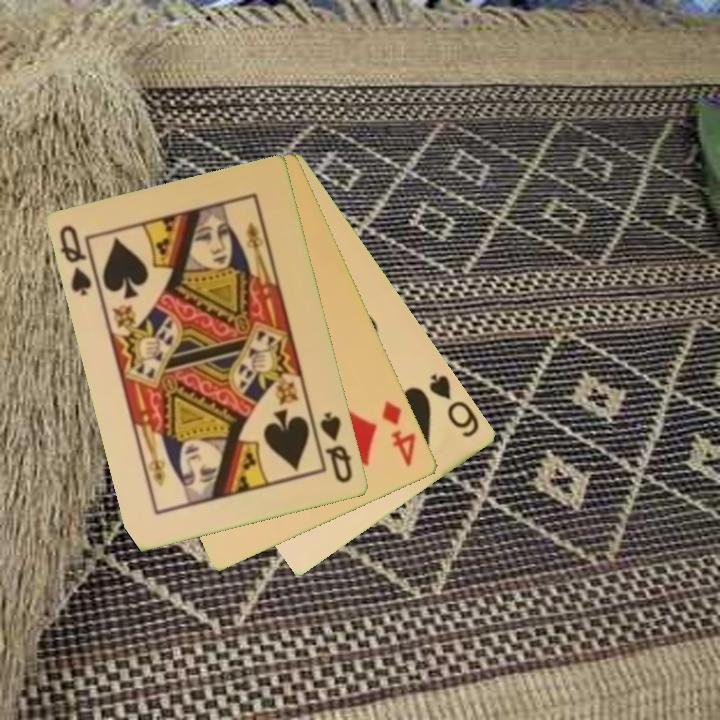4d: (378, 397, 420, 470)
6s: (426, 370, 483, 441)
Qs: (317, 408, 356, 487), (56, 222, 95, 299)
